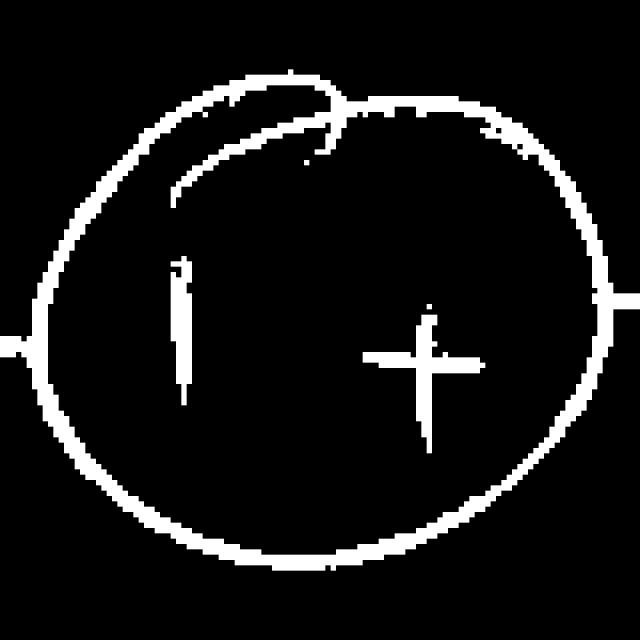voltage_source: (26, 50, 619, 583)
